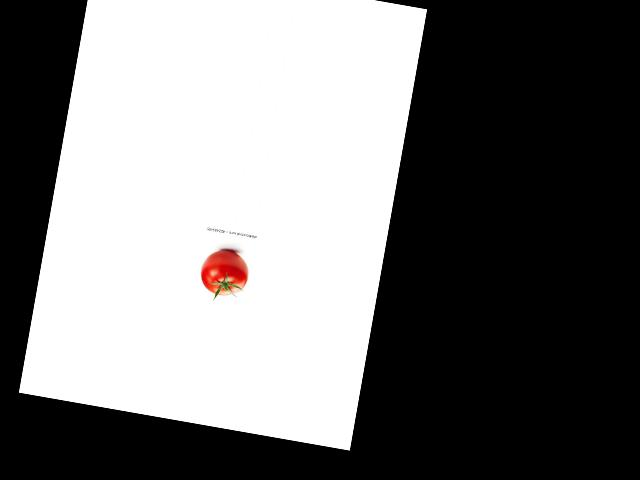tomato: (197, 246, 251, 299)
